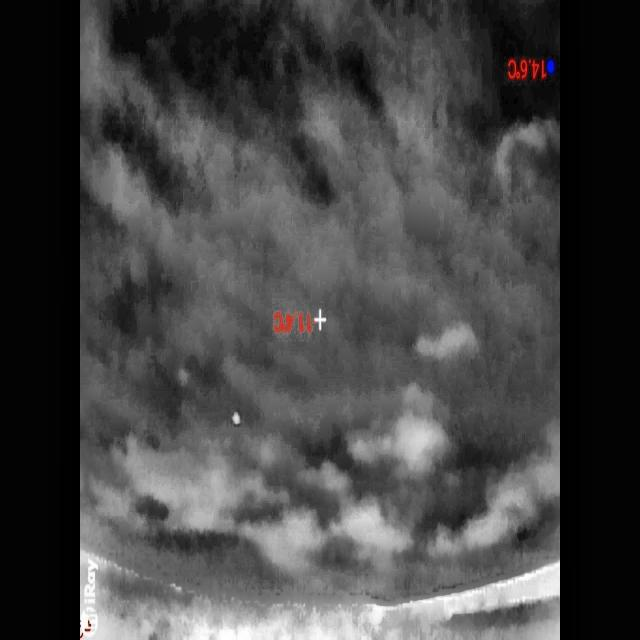drone: (232, 408, 241, 426)
